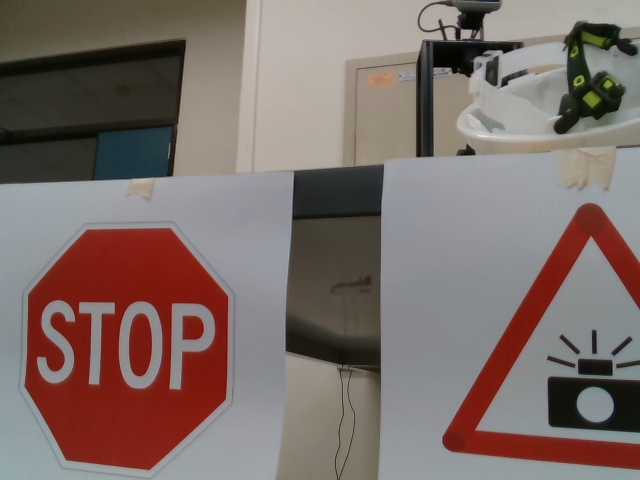camera: (440, 201, 640, 469)
helmet: (455, 17, 640, 153)
stop: (22, 225, 236, 478)
